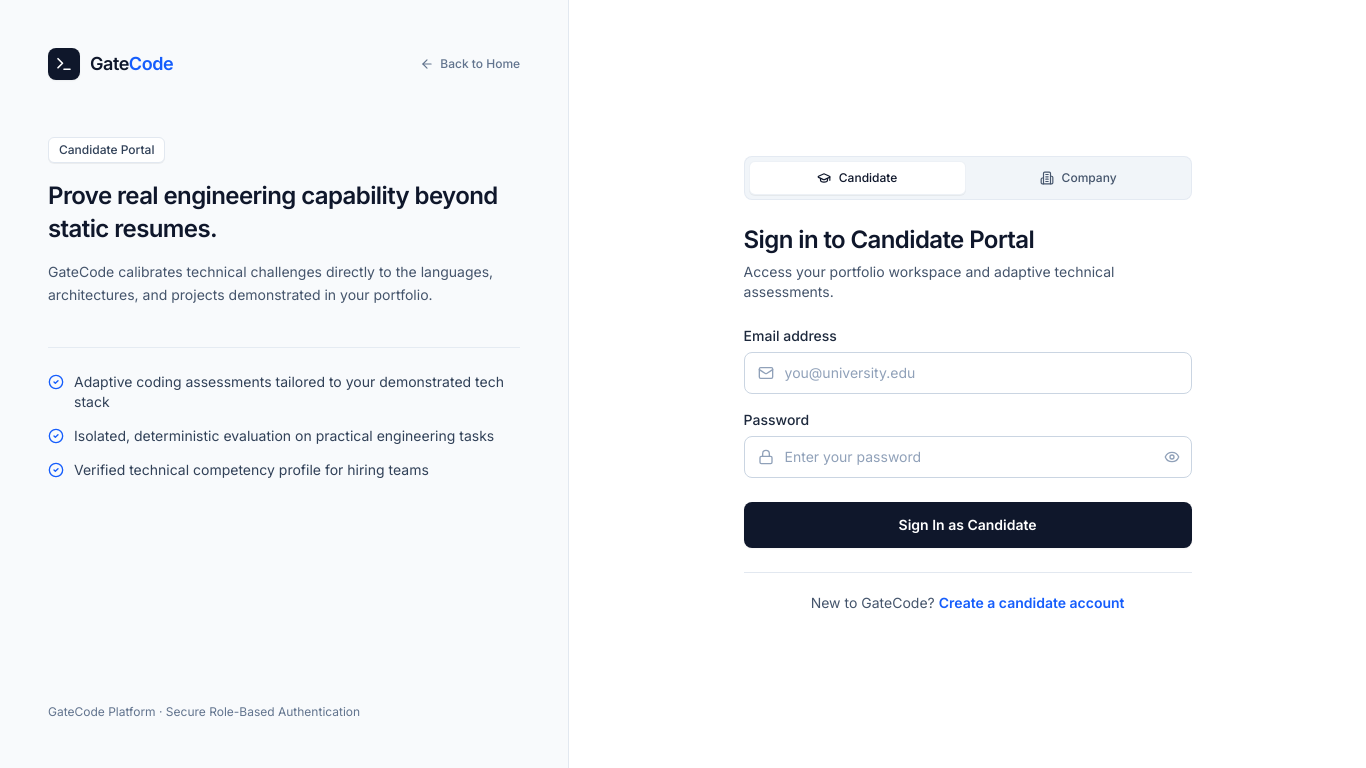
Test: GateCode Frontend Authentication Module › displays backend error message for incorrect credentials (401)
Type "candidate@example.com" into the field labelled "Email address" at (968, 372), box top-left (744, 352), bottom-right (1192, 394)
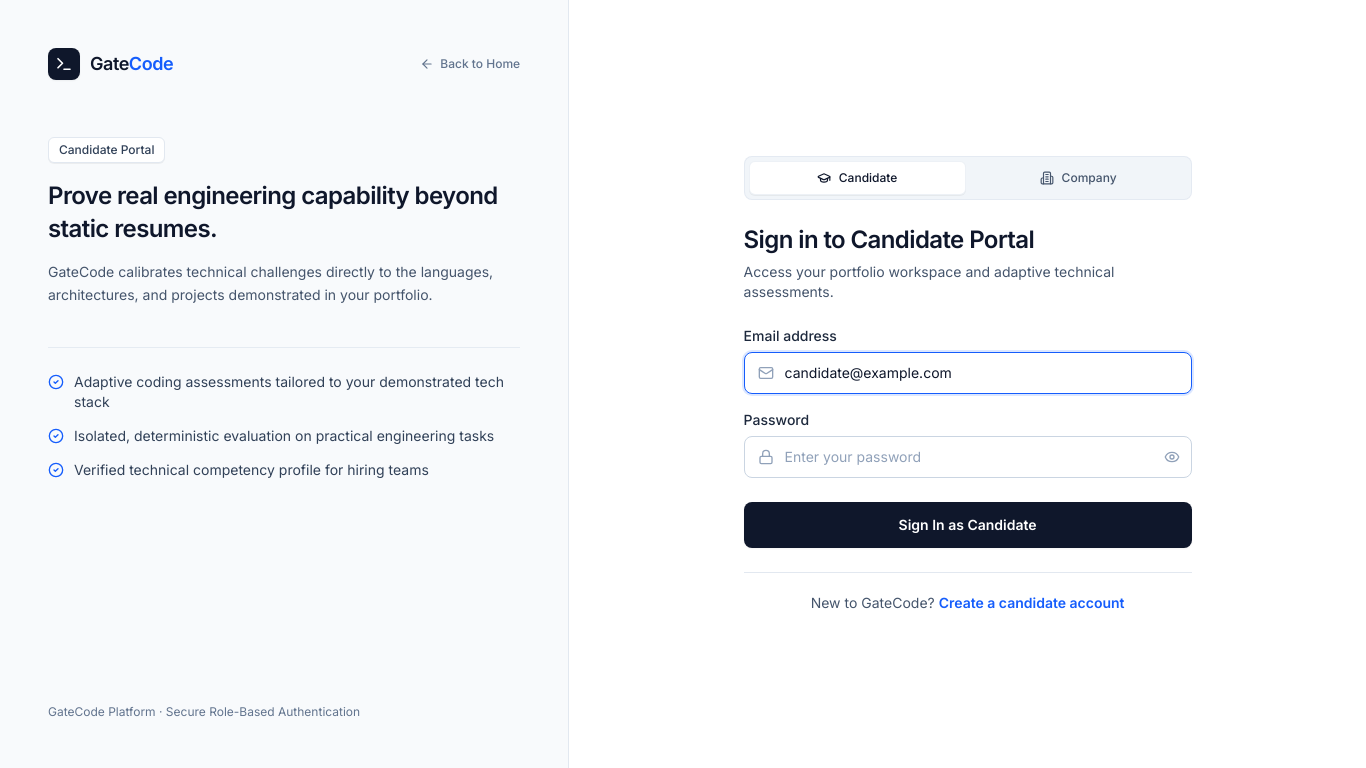
Type "WrongPassword123" into the password field labelled "Password" at (968, 456), box top-left (744, 436), bottom-right (1192, 478)
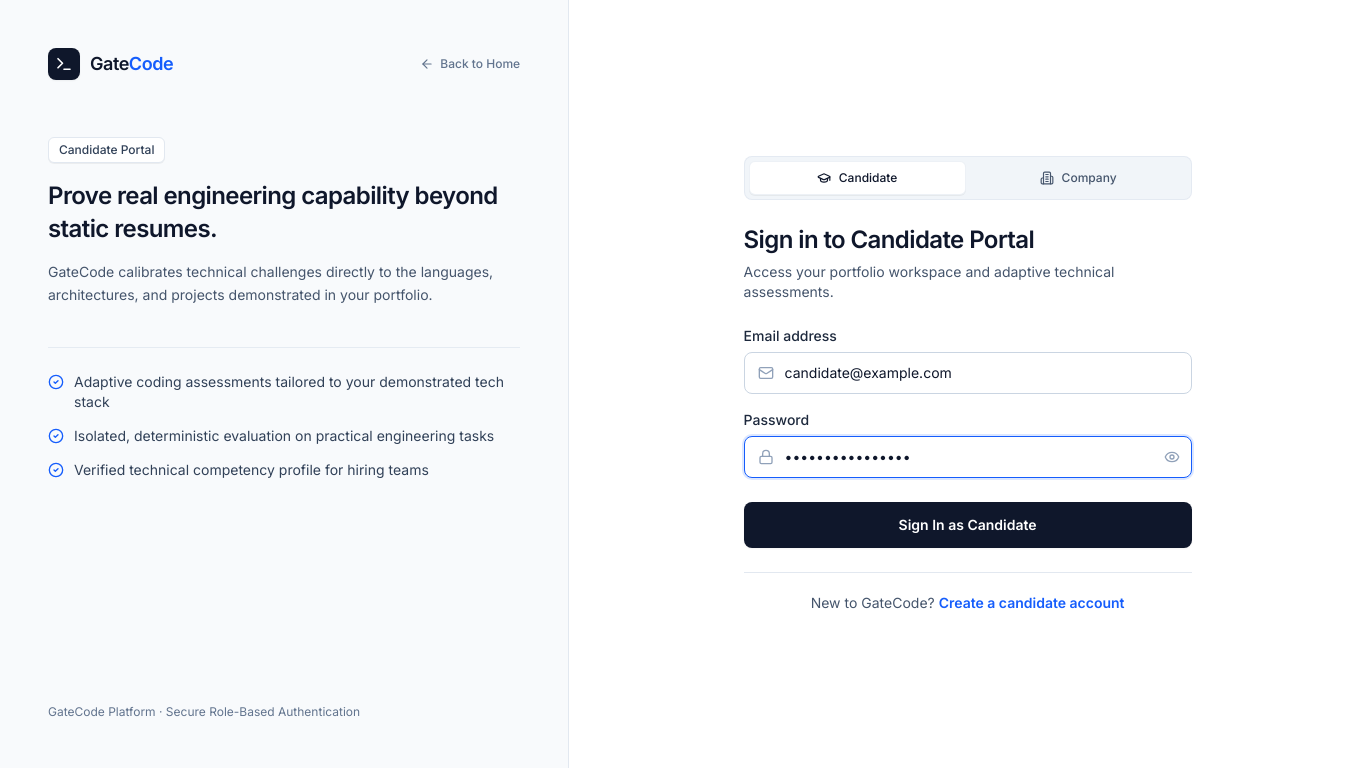
Click the button "Sign In as Candidate" at (968, 524), box top-left (744, 502), bottom-right (1192, 548)
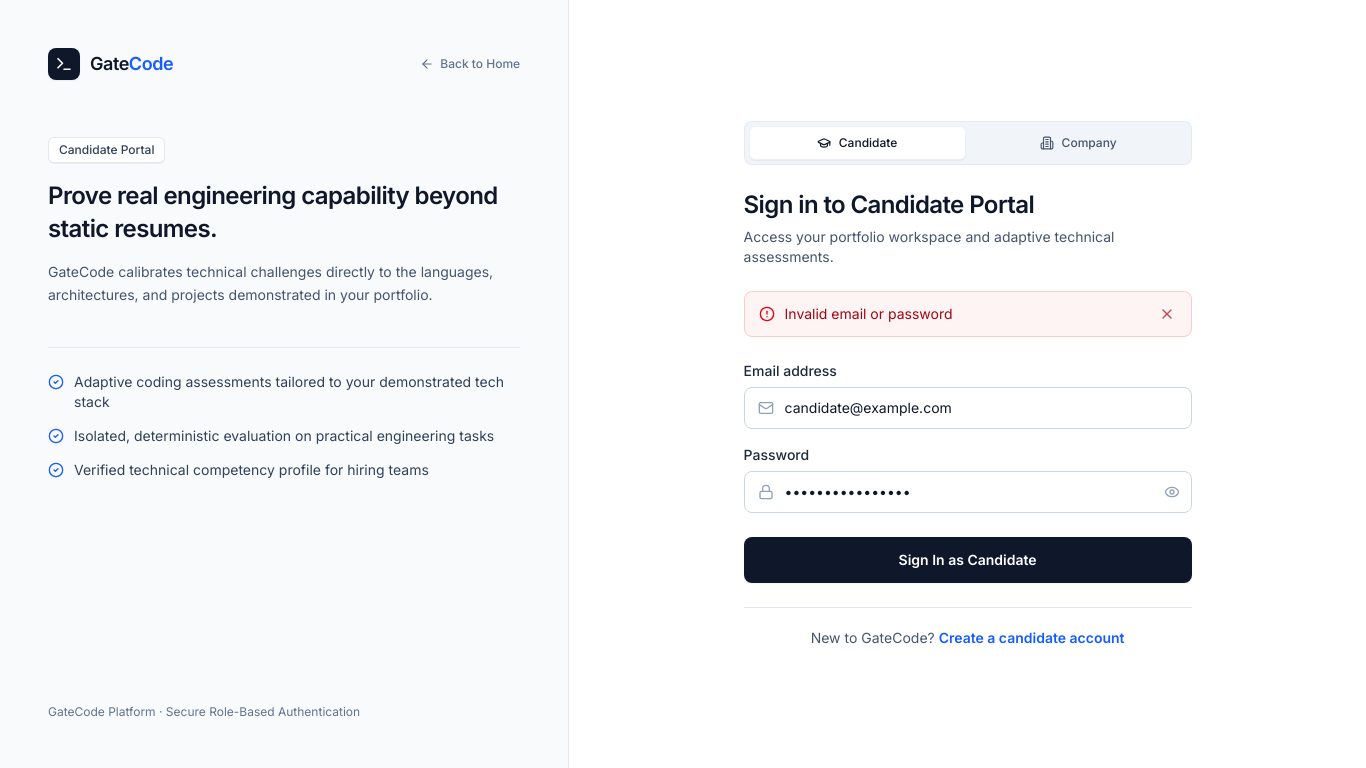
Result: the text "Invalid email or password" is shown at top-left (785, 304), bottom-right (953, 323)
